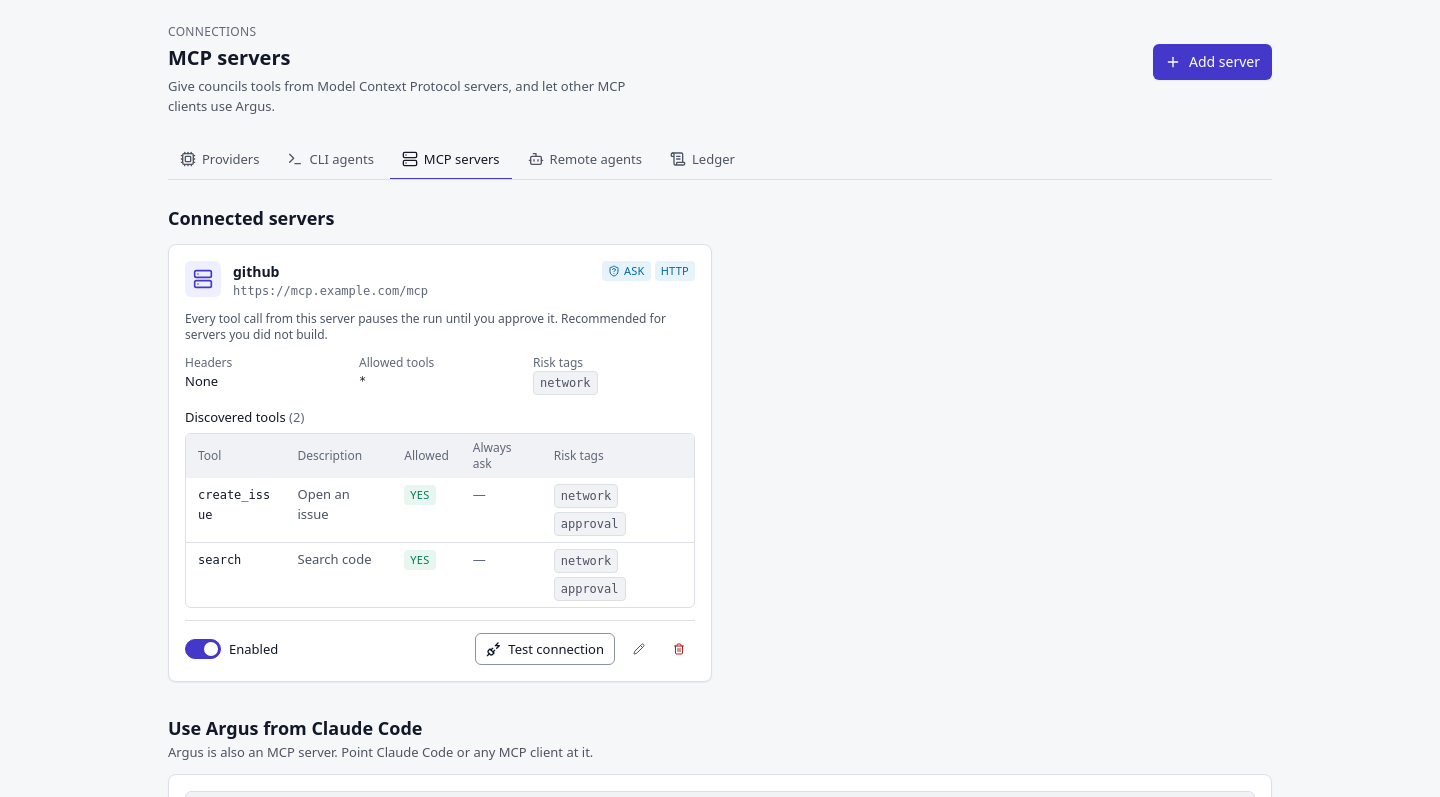
Test case: MCP server trust › reports a failed connection test
Click the button with aria-label "Test connection to github" at [545, 649], box [475,633,615,665]
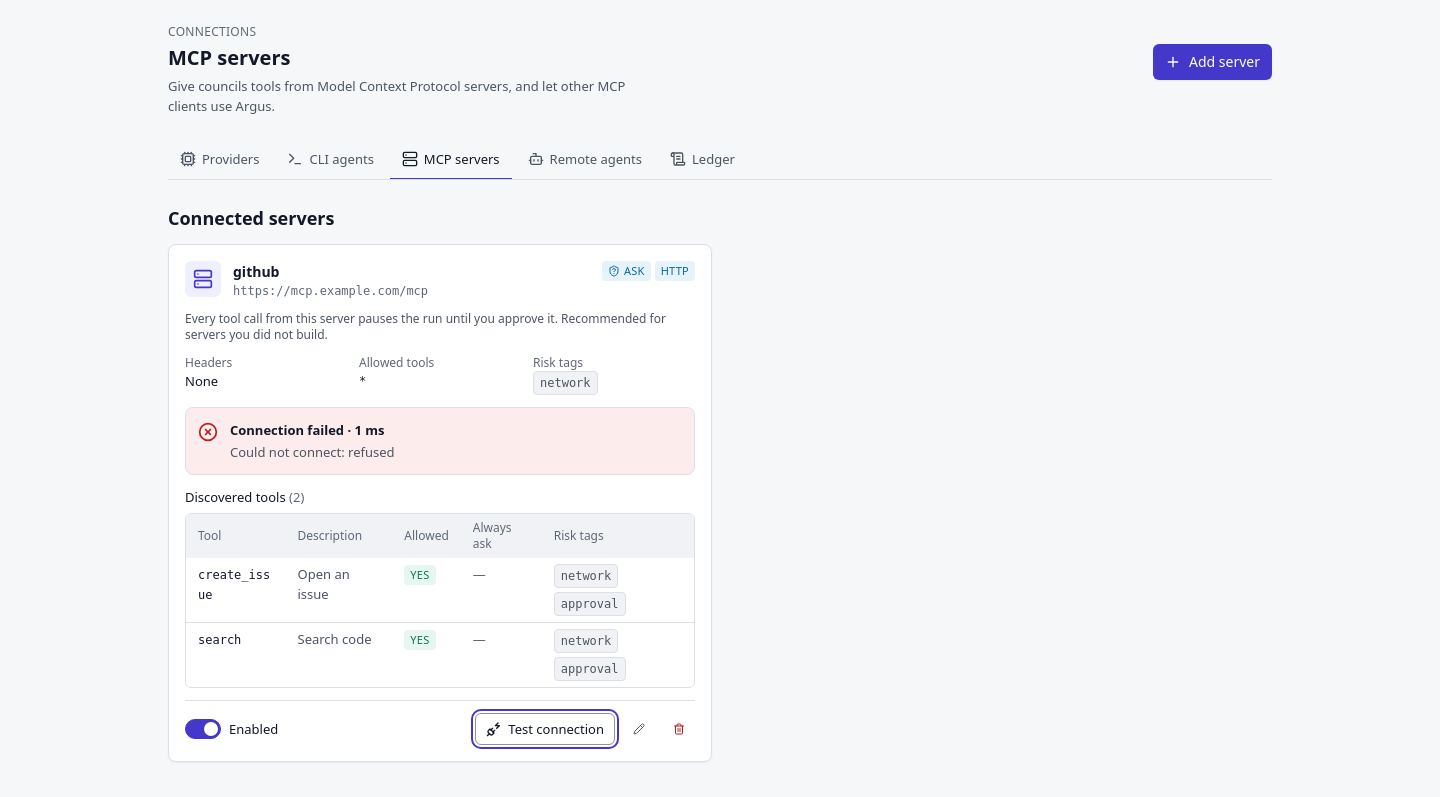
Expected: the message reads "Connection failed · 1 ms Could not connect: refused", [230,421,385,439]
Expected: the message shows "Could not connect: refused", [230,443,395,461]
